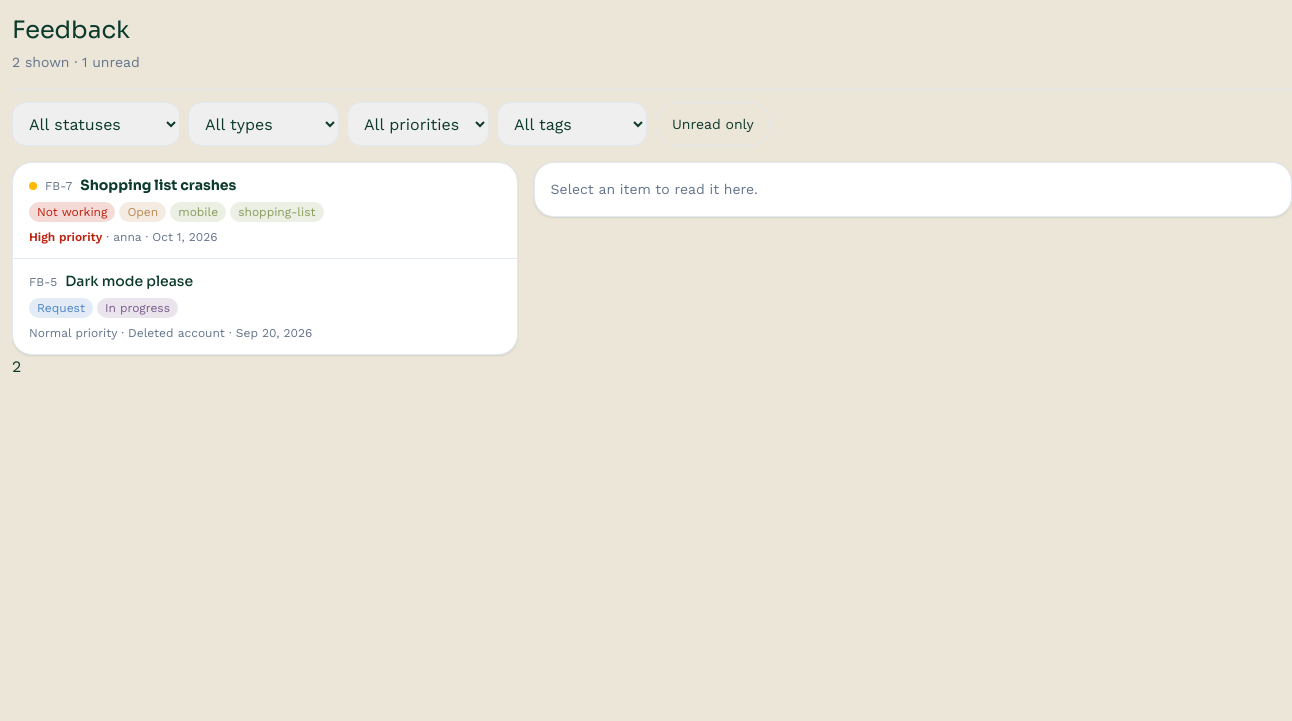
Test: marking a read item unread re-reads the badge count
The image size is (1292, 721).
expect the text "Shopping list crashes" is shown: met, box [80,175,236,196]
expect the text named "badge" reads "2": met, box [12,357,21,376]
Click the button that starts with "FB-5" at {"x": 129, "y": 281}, box [13,259,517,354]
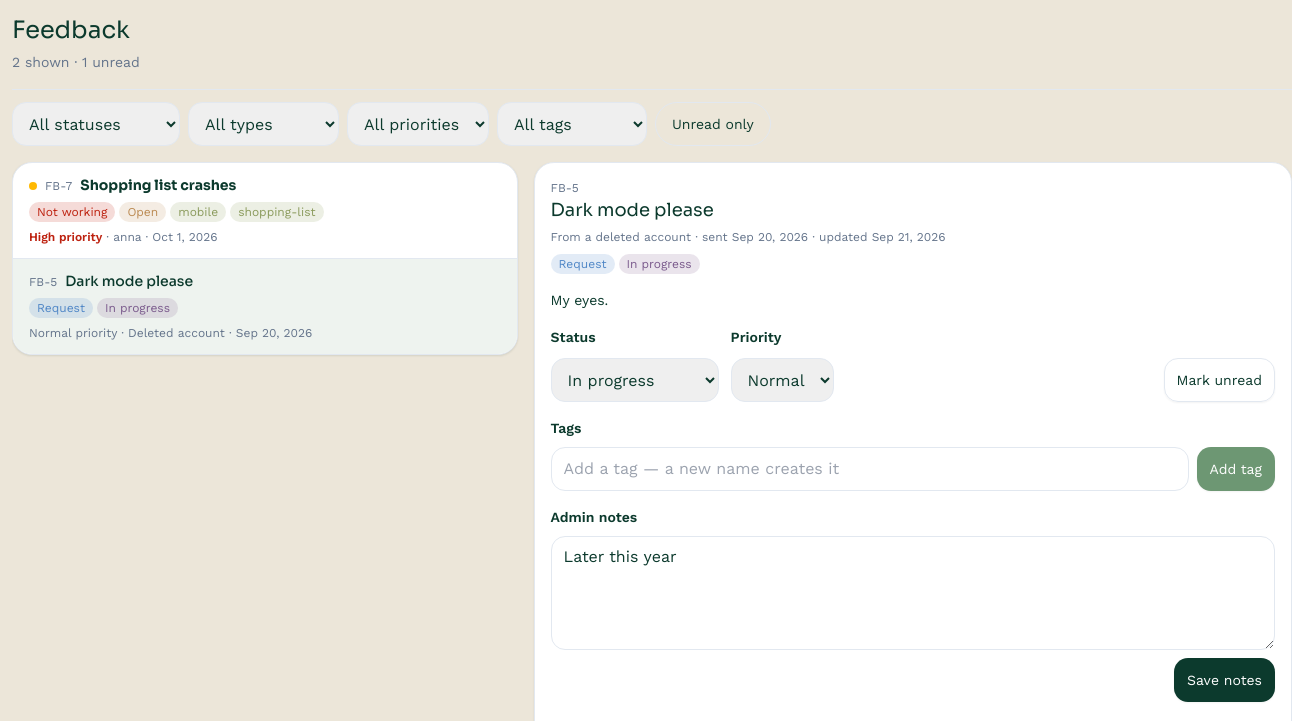
Click the button "Mark unread" at {"x": 1219, "y": 380}, box [1164,358,1275,402]
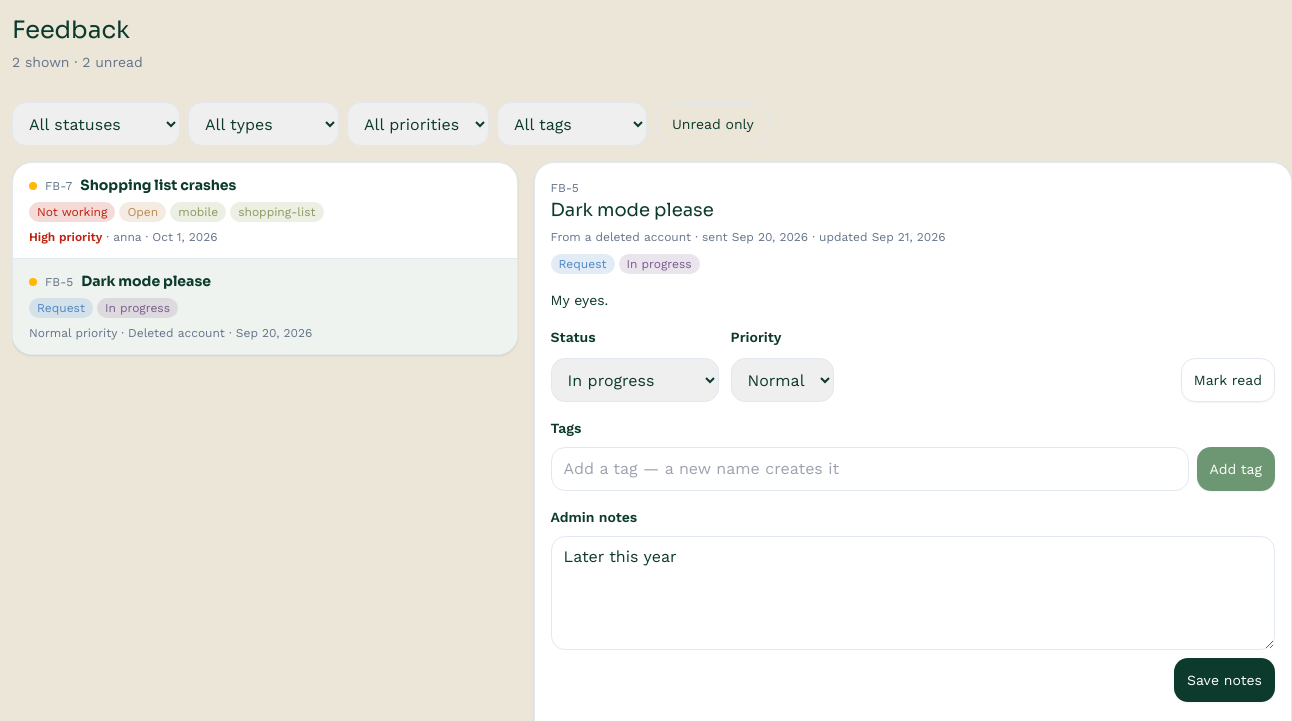
expect the 2nd picture named "Unread" is shown: met, box [29,278,37,286]
